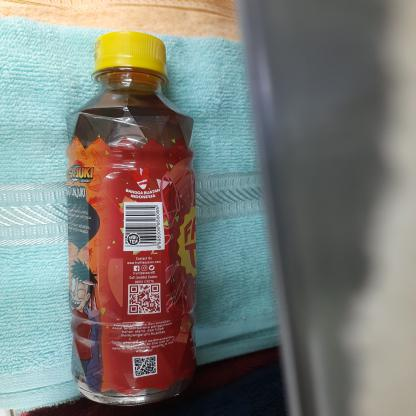bottle: (62, 26, 204, 411)
